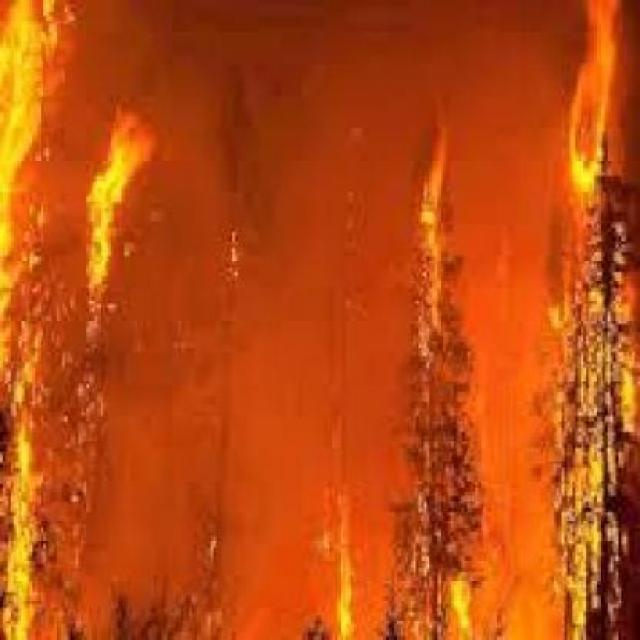Fire: (434, 0, 640, 640), (0, 0, 178, 640)
